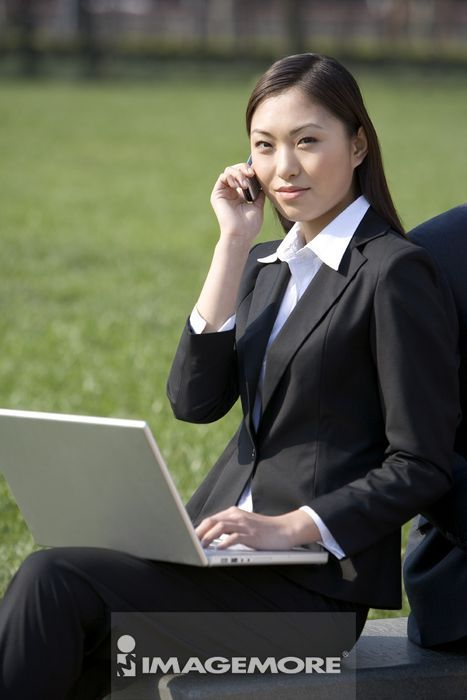talk: (209, 121, 332, 257)
